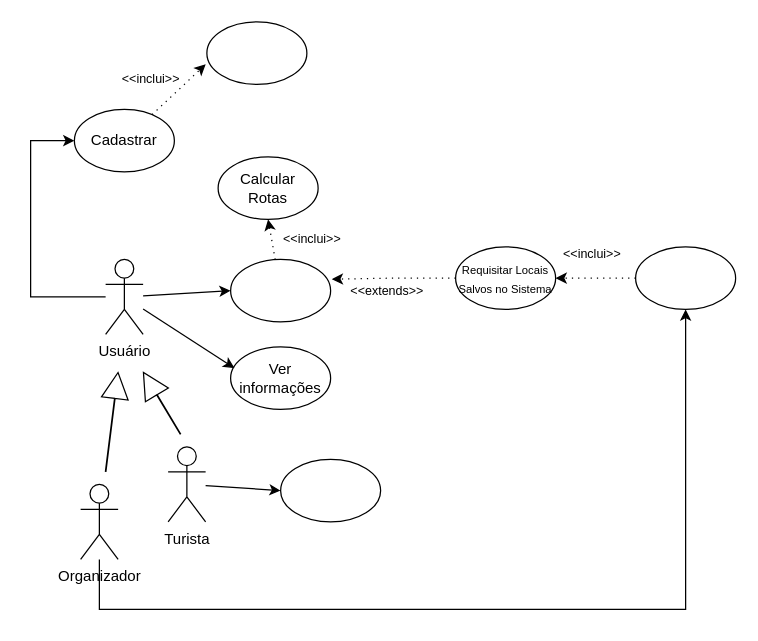
This 758x641 diagram has some shape labels left out. The box of each missing label's shape, as (x1, y1, x2, y2) in pixels:
Avalias Locais: (279, 458, 381, 522)
Cadastrar Locais: (634, 246, 736, 309)
Pesquisar Locais: (229, 258, 331, 322)
Salvar Usuário: (206, 21, 307, 84)
